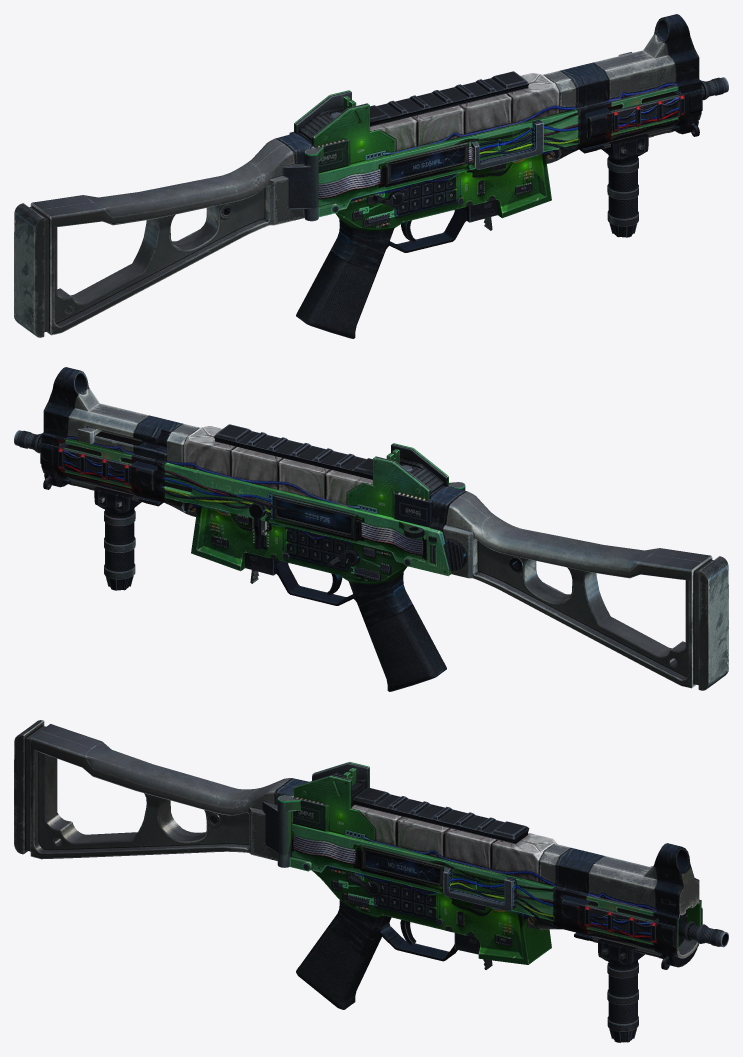
File: w_combatpdw_bomb.glb
3 renders of one model, top to bottom at view 1: azimuth 30°, elevation 25°; view 2: azimuth 150°, elevation 25°; view 3: azimuth 330°, elevation 25°, orthographic.
Parts seen in each view (by area): view 1: Gun_Root; view 2: Gun_Root; view 3: Gun_Root.
Boxes of the visible parts, x1,y1,x2,y2 form: Gun_Root: [14, 14, 728, 338]; Gun_Root: [14, 367, 728, 691]; Gun_Root: [14, 720, 728, 1042].
Bounding box in the file's own units: 0.7888 × 0.2575 × 0.0747.
1 material, 1 textured.
